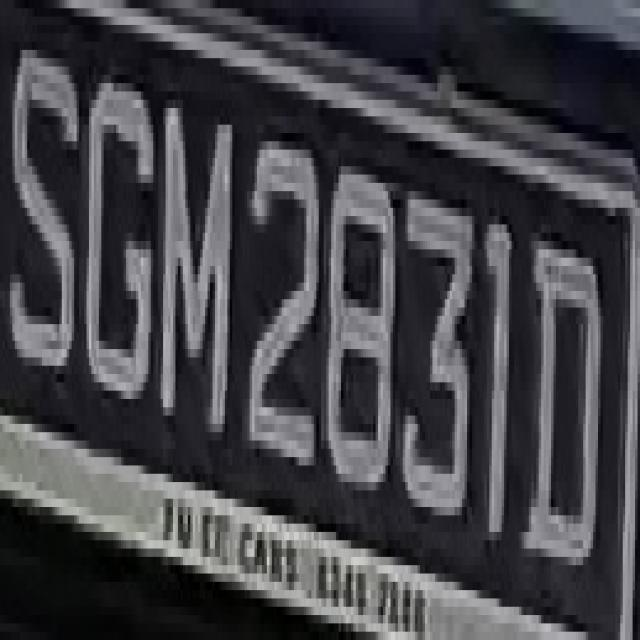1: (479, 158, 514, 607)
2: (245, 108, 326, 490)
3: (400, 158, 474, 548)
8: (324, 116, 400, 499)
D: (524, 199, 605, 582)
G: (81, 58, 156, 416)
M: (156, 67, 242, 466)
S: (10, 25, 79, 399)
